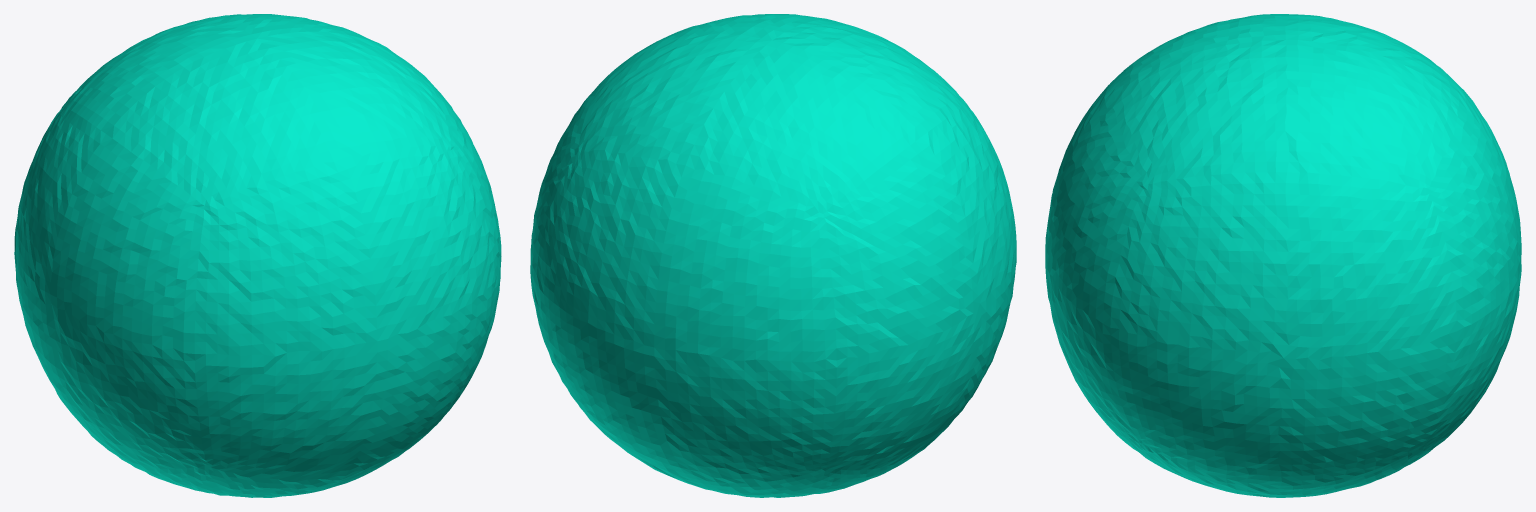
Rendered from Sea38.fbx.
3 views of the same model, side by side, from view 1: azimuth 30°, elevation 25°; view 2: azimuth 150°, elevation 25°; view 3: azimuth 270°, elevation 25° (orthographic).
Visible parts, largest first — view 1: pCube1; view 2: pCube1; view 3: pCube1.
Boxes of the visible parts, x1,y1,x2,y2 form: pCube1: [14, 14, 501, 497]; pCube1: [530, 14, 1016, 497]; pCube1: [1045, 14, 1521, 497].
Size of the model in its own units: 40.21 by 40.2 by 40.18.
